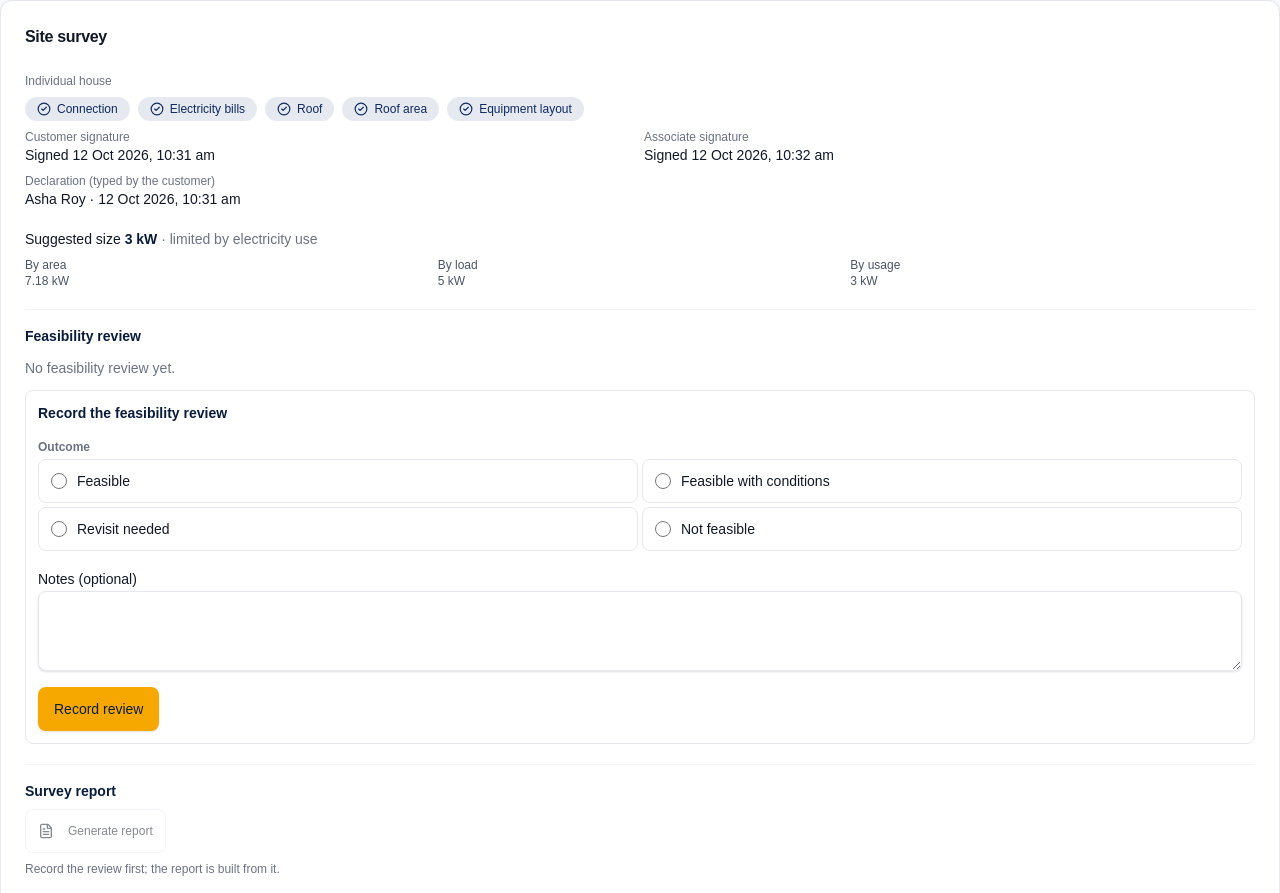
SurveyPanel — review form conditional requirements › revisit_needed needs an item with a section (from the survey, not free text) and a note
The width and height of the screenshot is (1280, 893).
Click the radio button labelled "Revisit needed" at (59, 529), box [51,521,67,537]
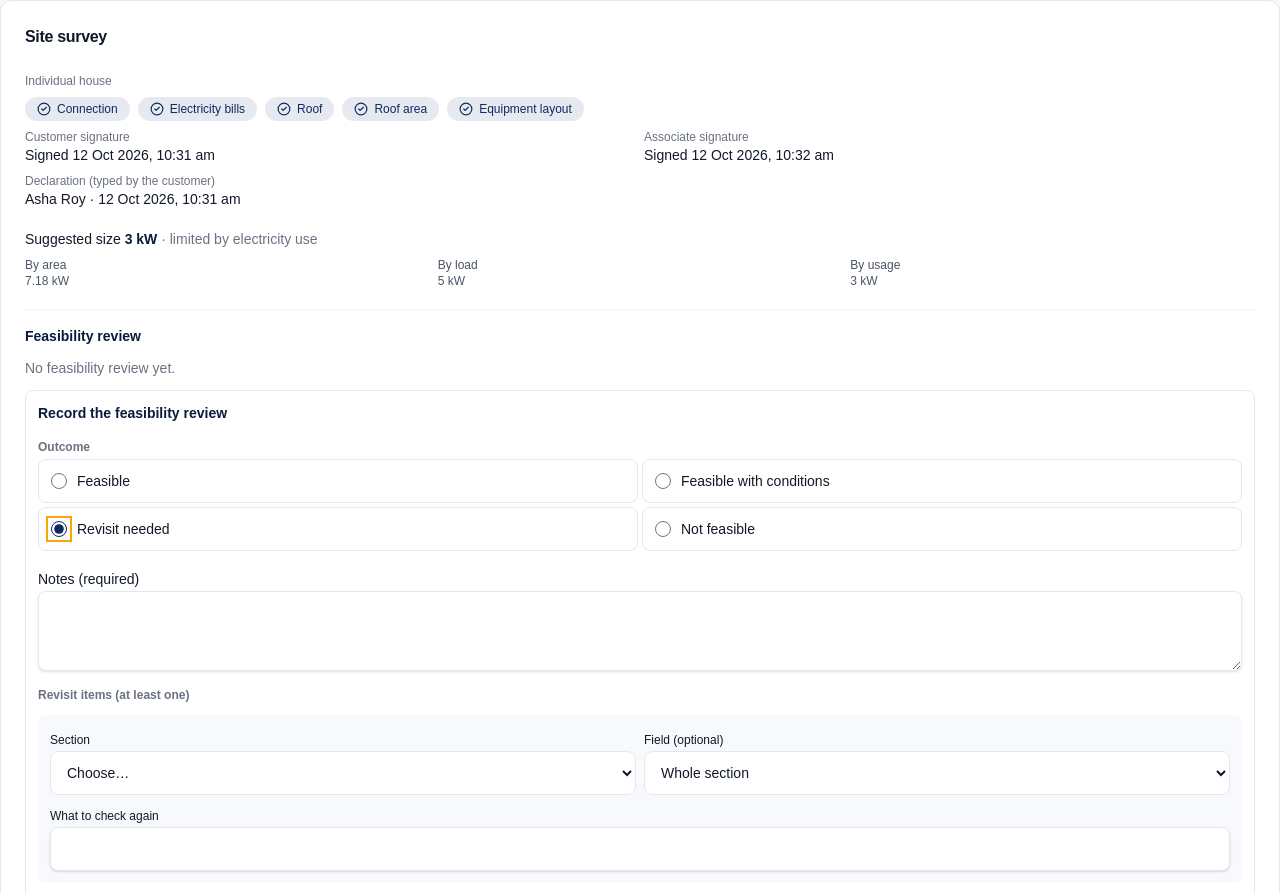
Type "Check the roof" into the text box labelled "Notes (required)" at (640, 631), box [38,591,1242,671]
(page scrolled)
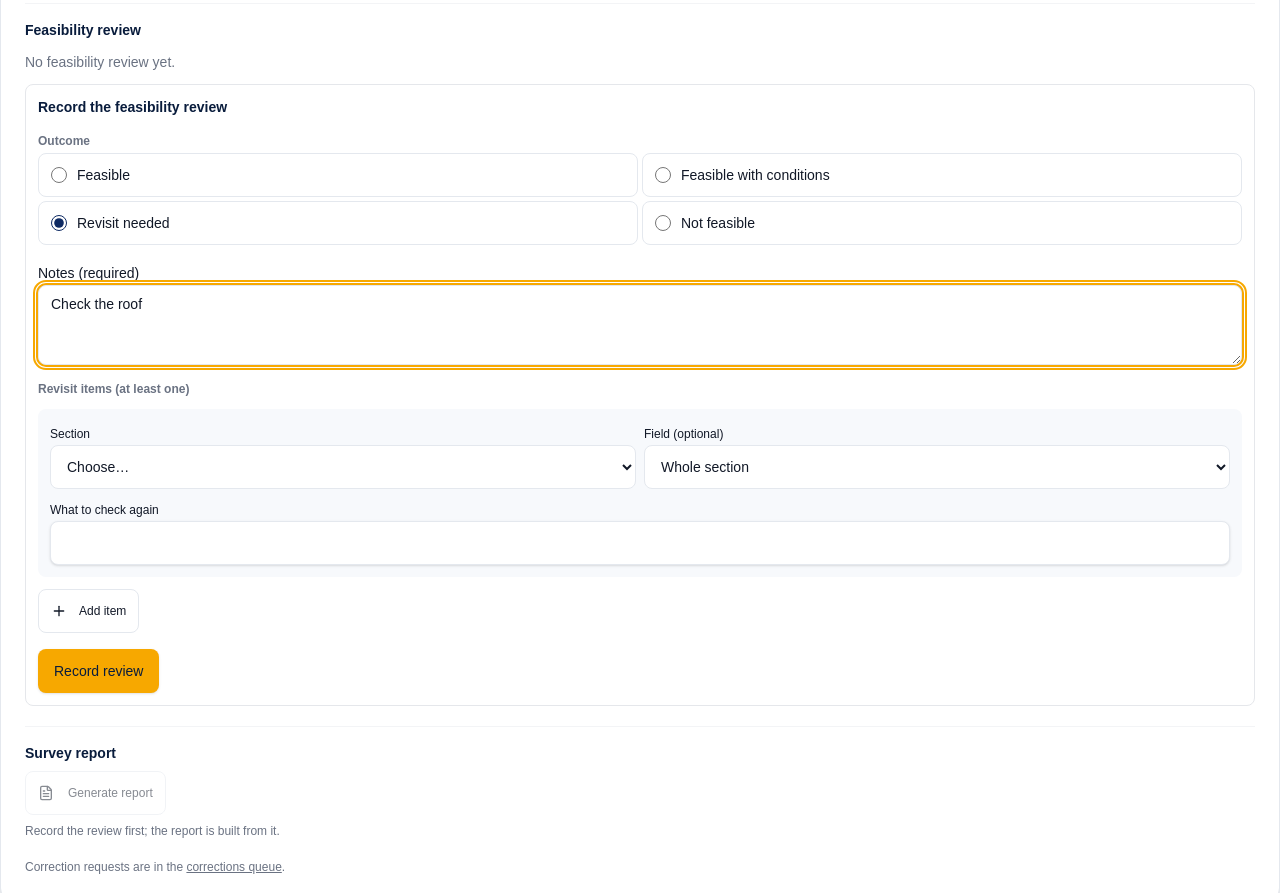
Click the button "Record review" at (99, 671), box [38,649,160,693]
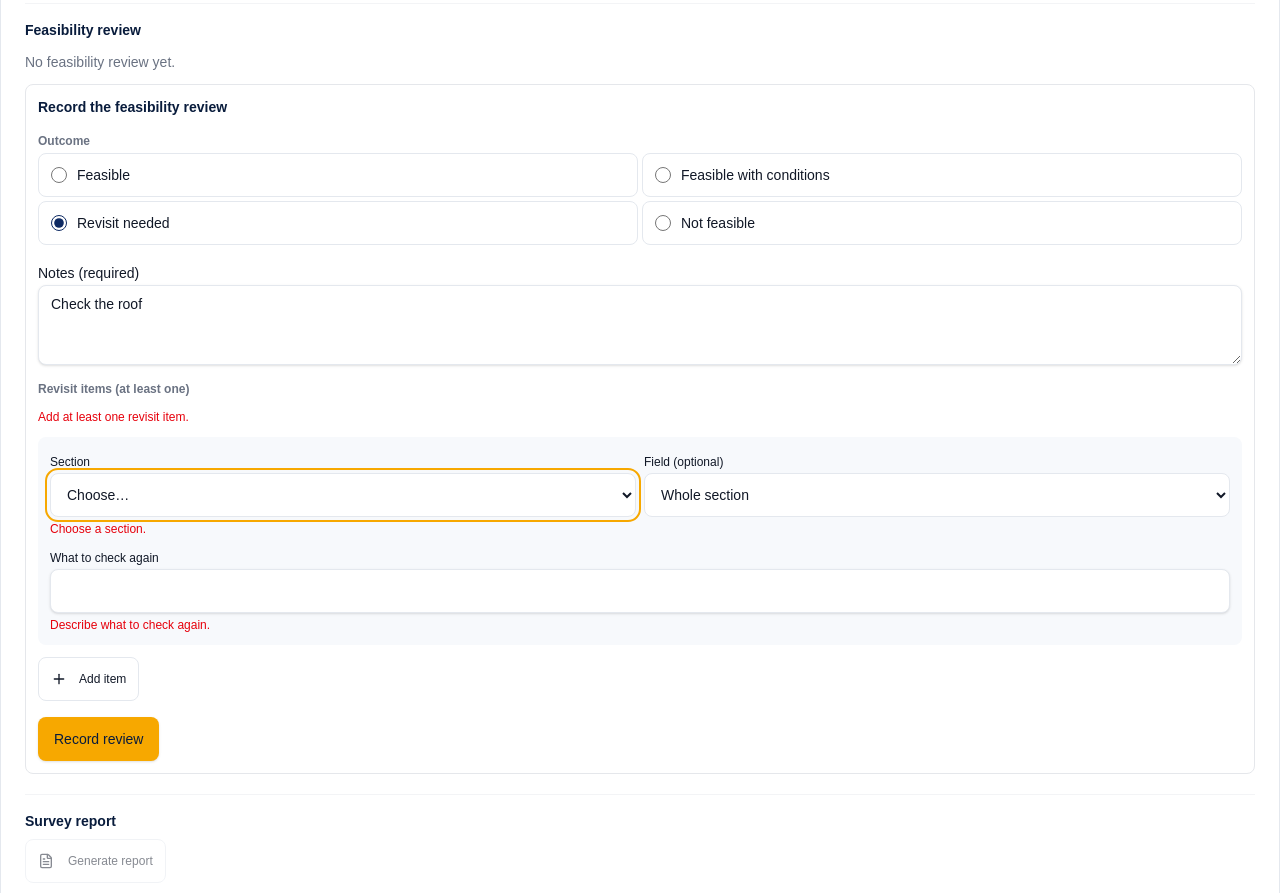
Now the text "Choose a section." is shown, box [50,522,146,536]
